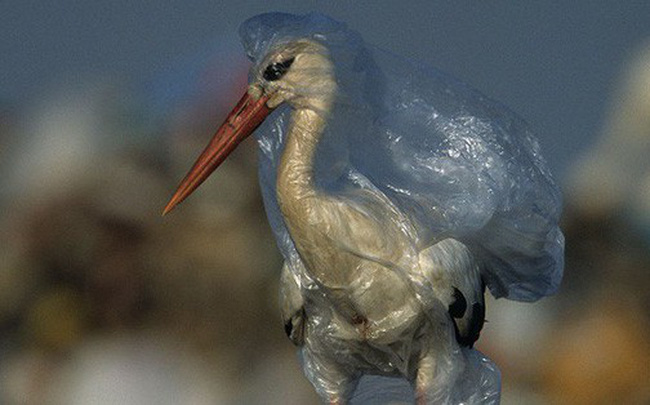plastic bag: (239, 13, 567, 405)
